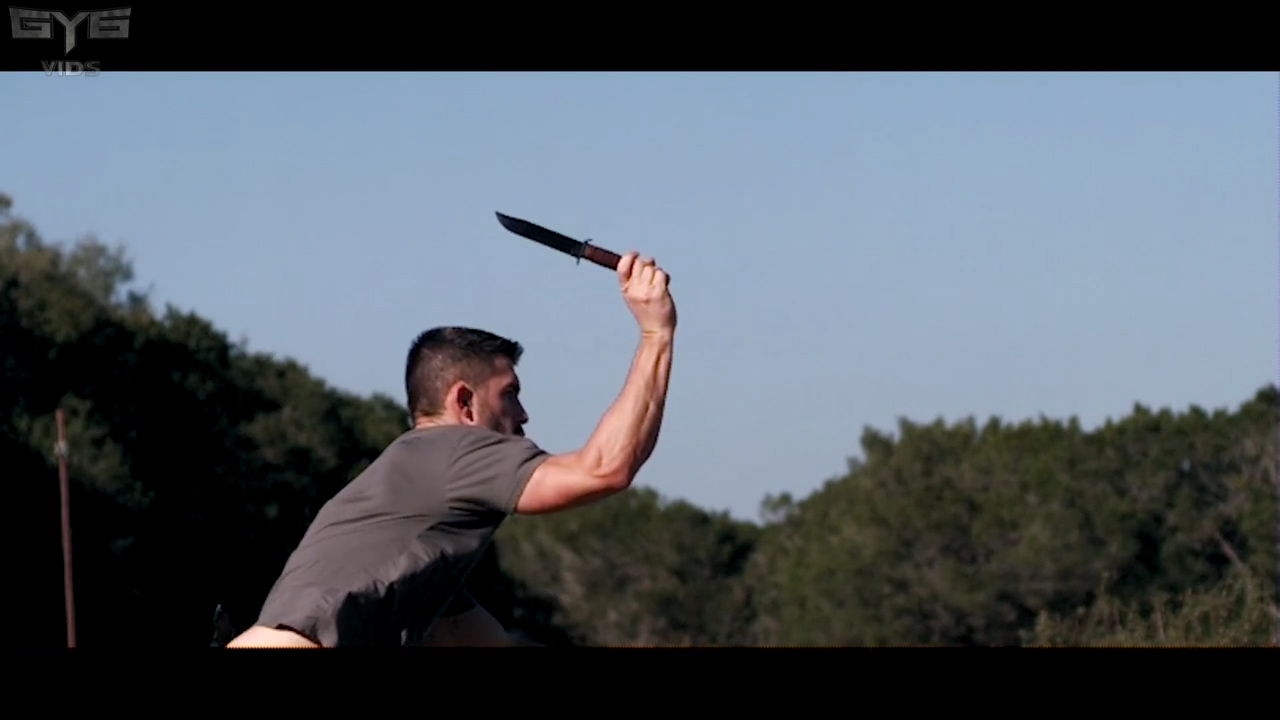knife: (486, 203, 692, 322)
